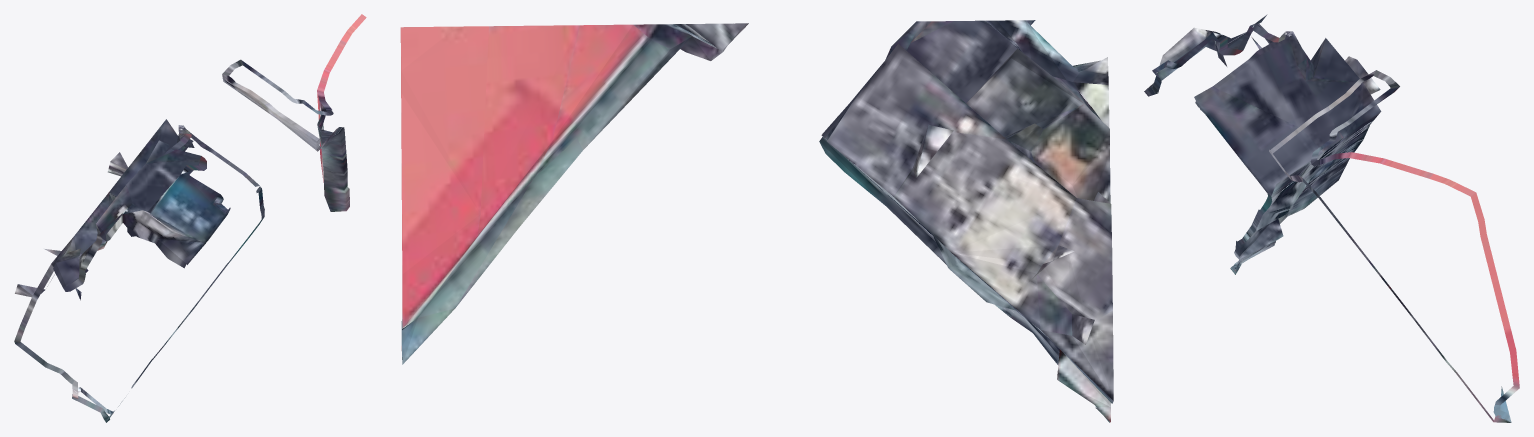
3 renders of one model, left to right at view 1: azimuth 30°, elevation 25°; view 2: azimuth 150°, elevation 25°; view 3: azimuth 270°, elevation 25°, orthographic. The views are drawn at different scales.
Size of the model in its own units: 35.5 by 21.79 by 24.2.
Materials: 1 (1 with a texture image).
